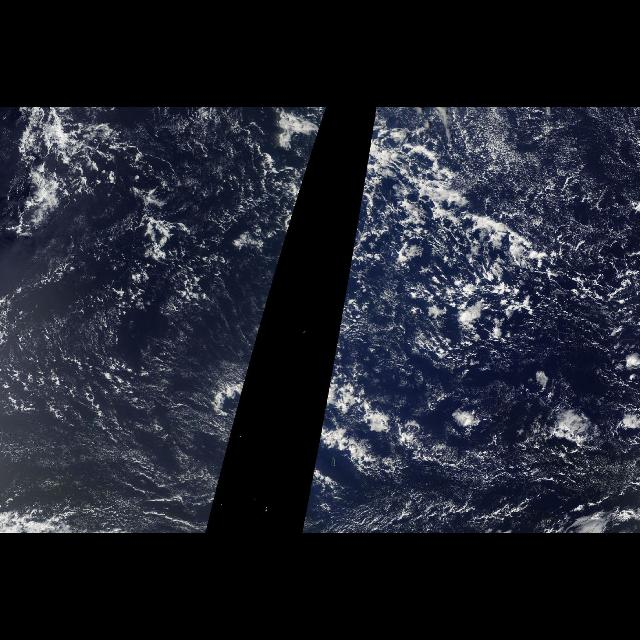Gravel: (370, 120, 638, 454), (7, 342, 164, 431)
Sugar: (7, 270, 211, 520), (442, 111, 640, 182)
